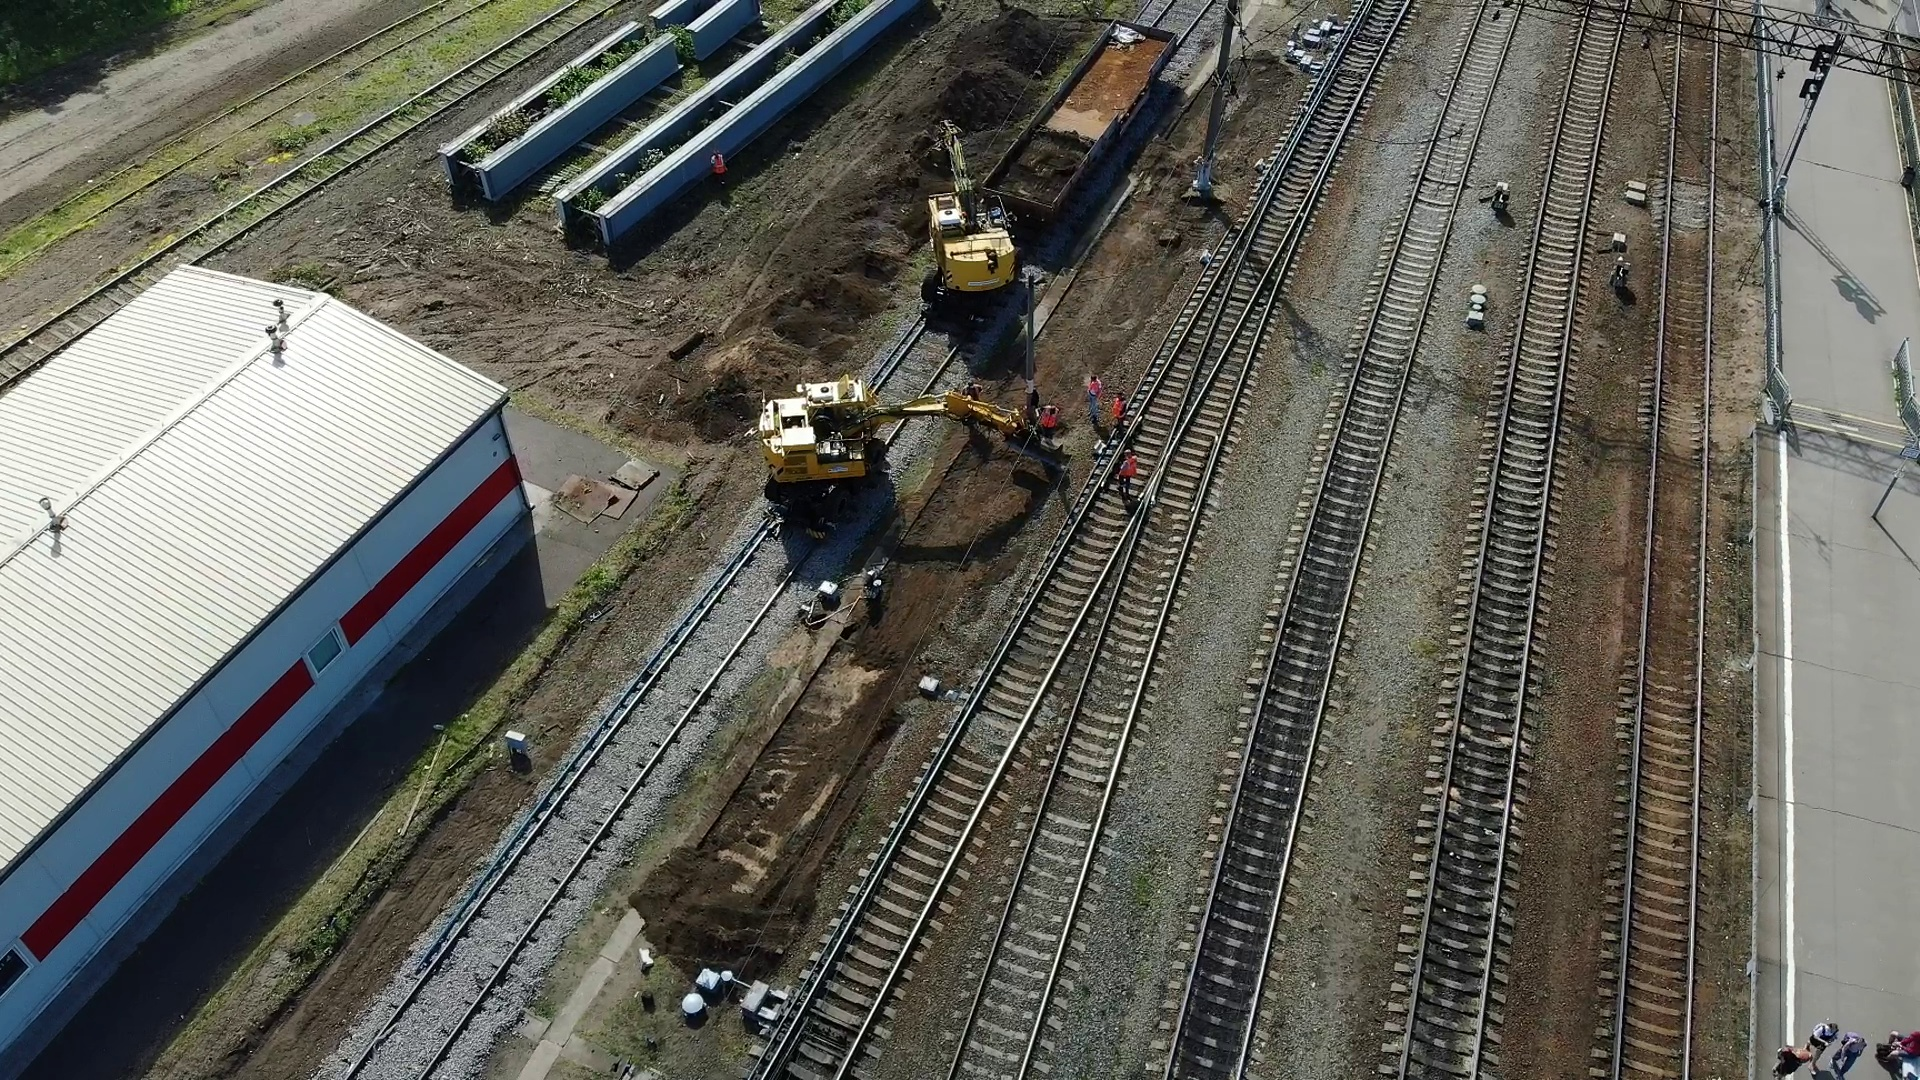kjtv: (756, 378, 902, 512), (928, 195, 1030, 320)
